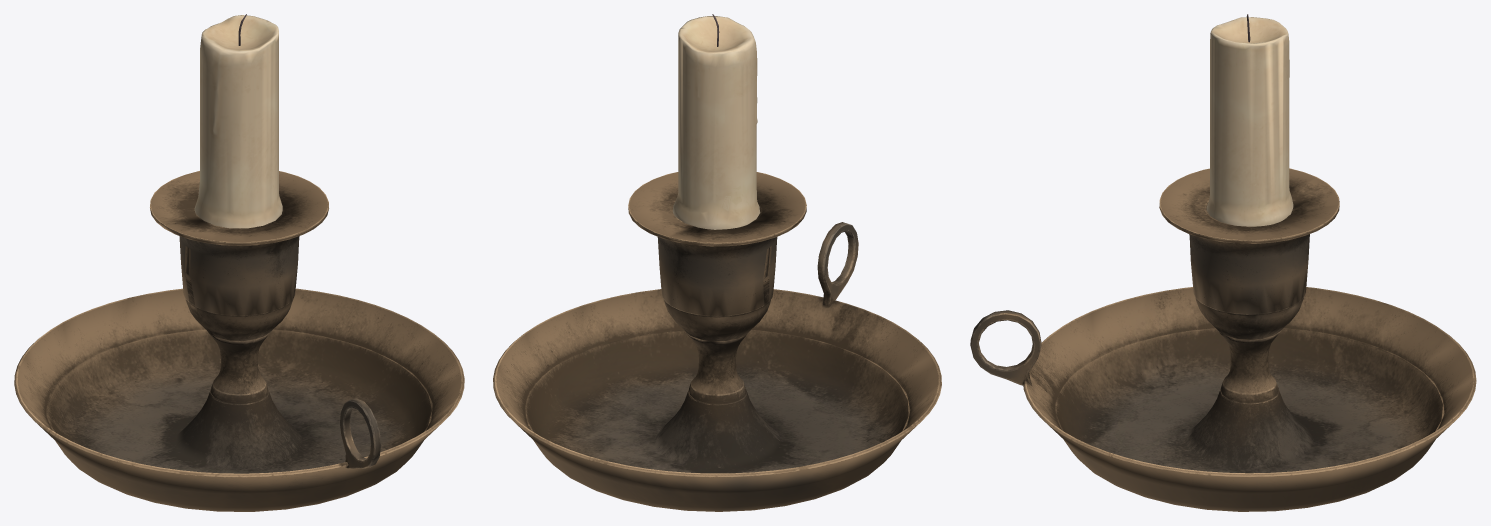
The model's file is L2_Antique.fbx.
The picture shows the model from 3 angles, left to right: view 1: azimuth 30°, elevation 25°; view 2: azimuth 150°, elevation 25°; view 3: azimuth 270°, elevation 25°; orthographic projection.
Parts seen in each view (by area): view 1: L2_LR_Collectibles; view 2: L2_LR_Collectibles; view 3: L2_LR_Collectibles.
Boxes of the visible parts, x1,y1,x2,y2 form: L2_LR_Collectibles: (14,14,464,511); L2_LR_Collectibles: (493,14,941,511); L2_LR_Collectibles: (970,14,1476,511).
Size of the model in its own units: 0.1882 by 0.1977 by 0.2099.
2 materials, 2 textured.
